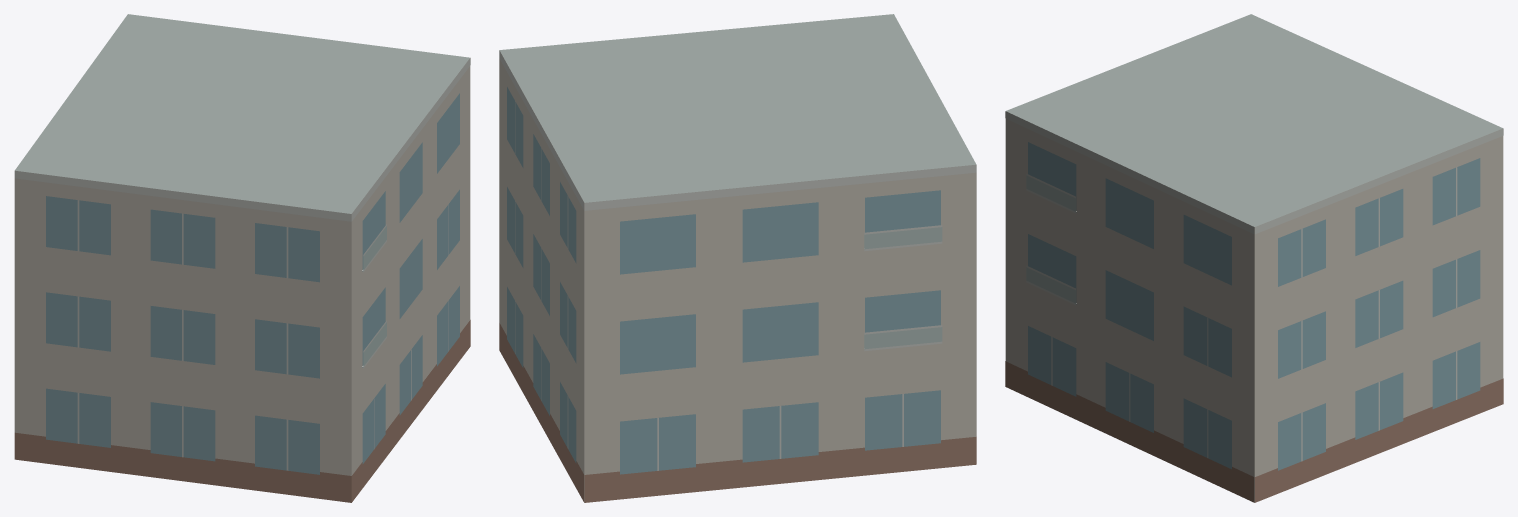
The model's file is survey-upis-32717478.glb.
3 renders of one model, left to right at view 1: azimuth 30°, elevation 25°; view 2: azimuth 150°, elevation 25°; view 3: azimuth 270°, elevation 25°, orthographic. The views are drawn at different scales.
Parts seen in each view (by area): view 1: survey-upis-32717478.tmp; view 2: survey-upis-32717478.tmp; view 3: survey-upis-32717478.tmp.
Part boxes in pixels (<box>): survey-upis-32717478.tmp: <box>14,14,470,502</box>; survey-upis-32717478.tmp: <box>499,14,976,502</box>; survey-upis-32717478.tmp: <box>1005,14,1503,502</box>.
Bounding box in the file's own units: 15.18 × 9.15 × 14.98.
